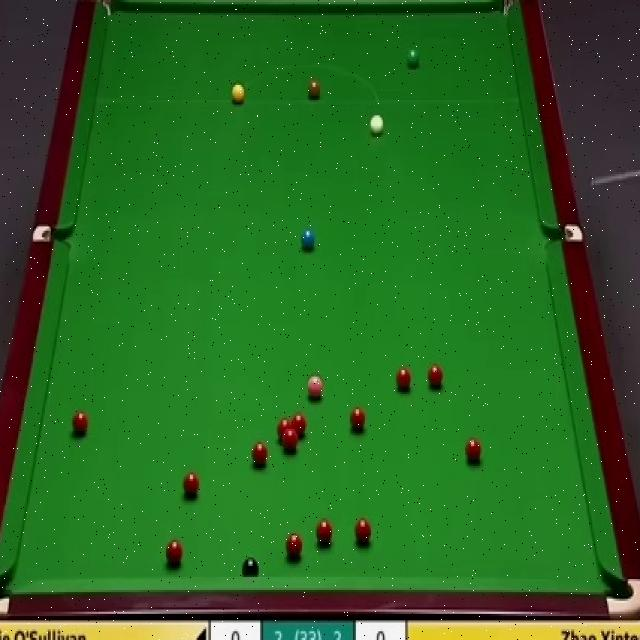black-ball: (242, 558, 260, 578)
blue-ball: (299, 224, 316, 252)
brown-ball: (308, 80, 320, 99)
green-ball: (404, 48, 421, 69)
pink-ball: (307, 371, 324, 400)
red-ball: (394, 365, 413, 396), (72, 409, 91, 438), (354, 516, 372, 546), (182, 470, 199, 500), (464, 440, 482, 467), (166, 538, 183, 566), (286, 532, 303, 560), (316, 518, 333, 546), (349, 406, 365, 434), (427, 365, 444, 391), (292, 413, 307, 440), (252, 441, 267, 467), (284, 431, 298, 453), (278, 418, 292, 440)
white-ball: (368, 111, 386, 138)
yellow-ball: (230, 82, 245, 103)
